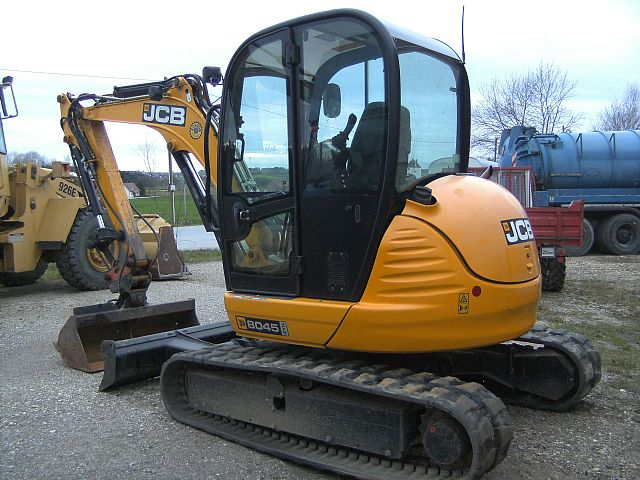backhoe: (54, 8, 603, 479)
